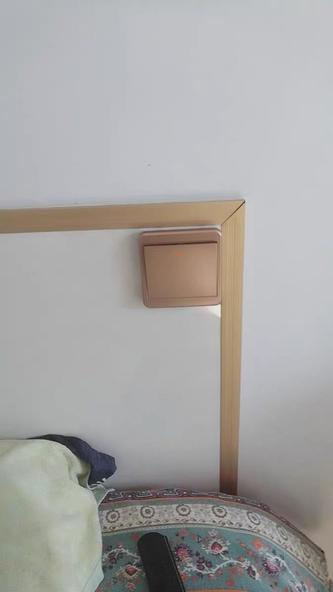switch: (153, 245, 220, 295)
